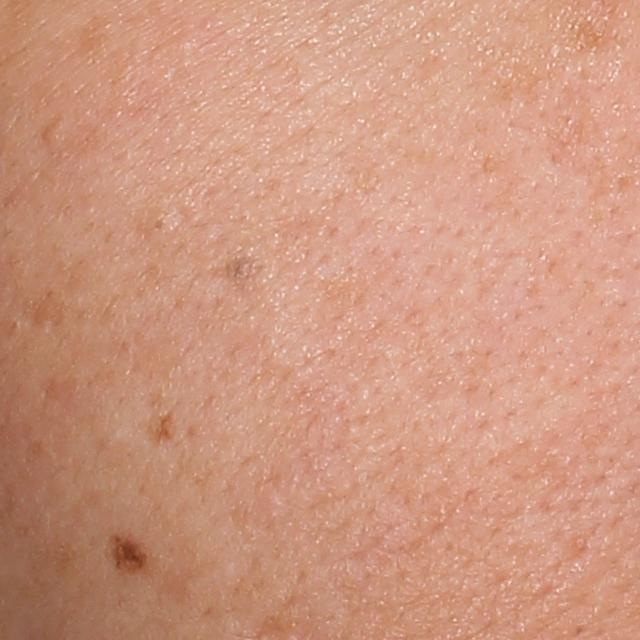comedo: (143, 204, 175, 237), (38, 121, 67, 146)
nevus: (104, 532, 152, 576)
